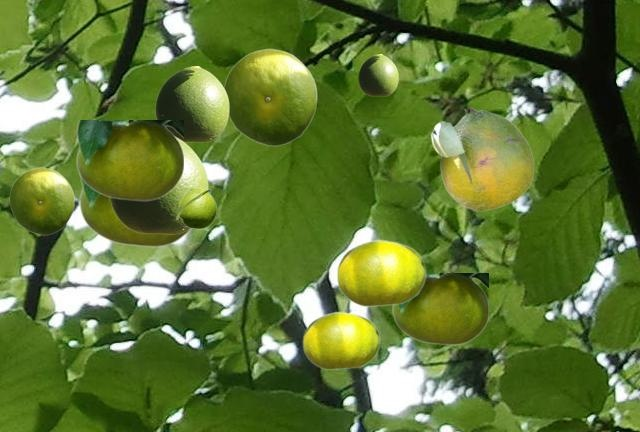dalandan: (430, 109, 533, 210), (109, 136, 207, 233), (224, 48, 316, 145), (76, 120, 182, 200), (79, 177, 191, 246), (392, 273, 487, 344), (336, 239, 425, 306), (155, 66, 228, 141), (302, 311, 379, 369), (9, 167, 73, 234), (175, 187, 216, 228), (358, 54, 397, 95)
